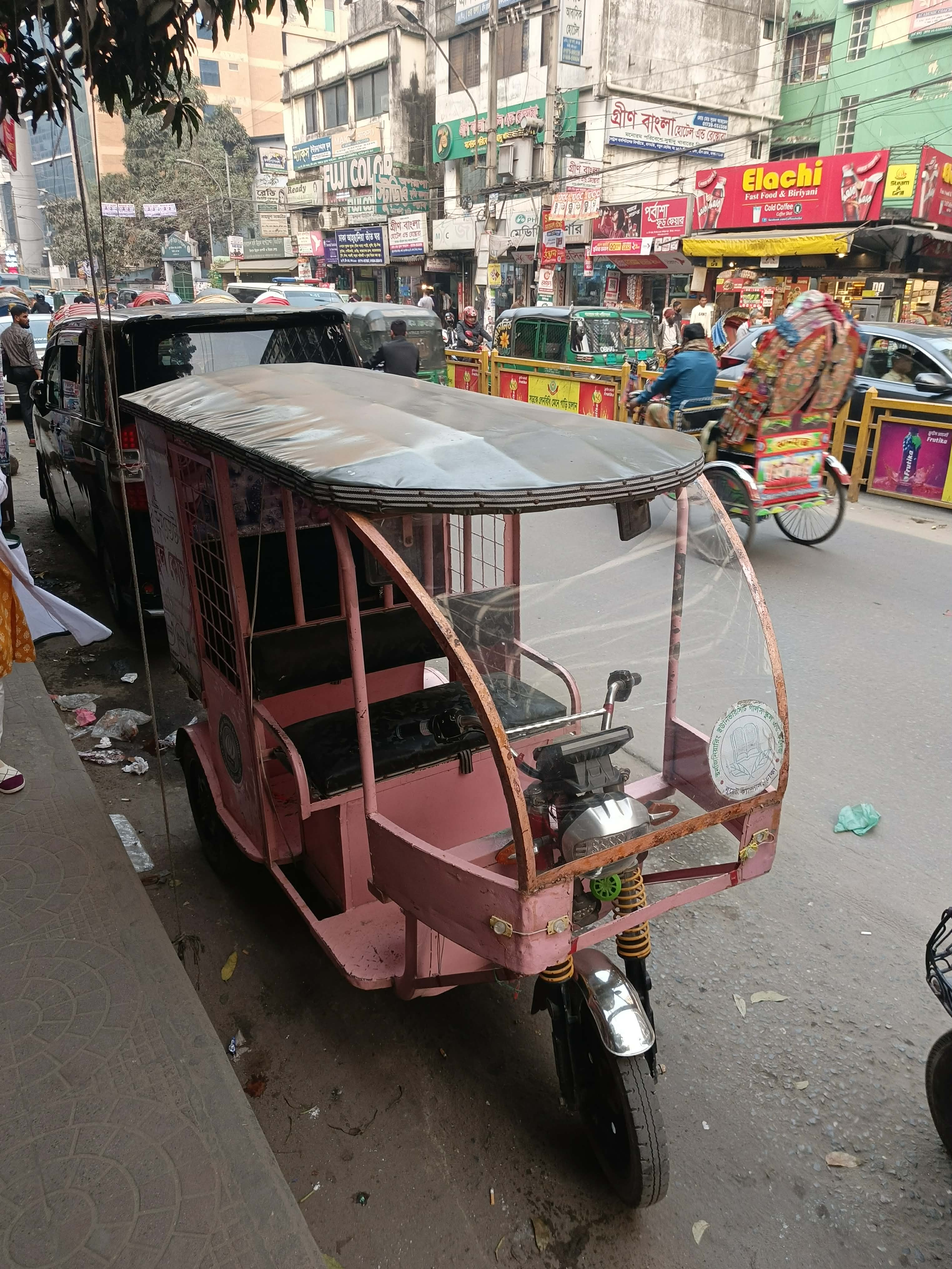Bikes: (44, 279, 430, 450)
auto-ricksaw: (112, 341, 795, 1227), (662, 197, 905, 550)
